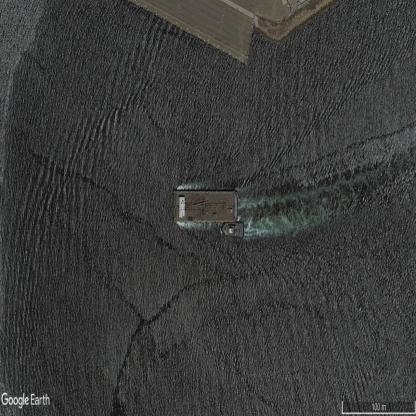ship: (175, 191, 238, 223), (222, 222, 243, 239)
